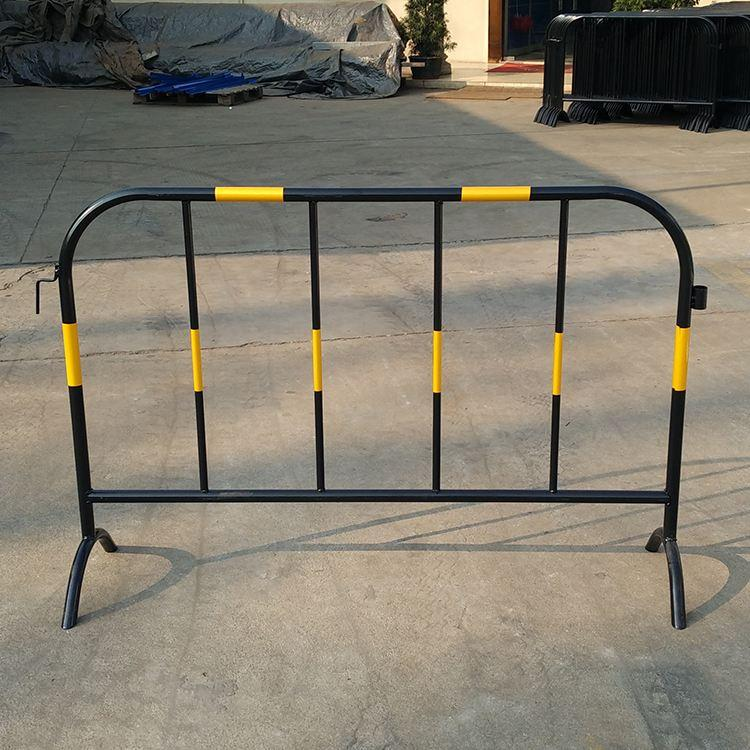sign: (38, 181, 736, 646)
